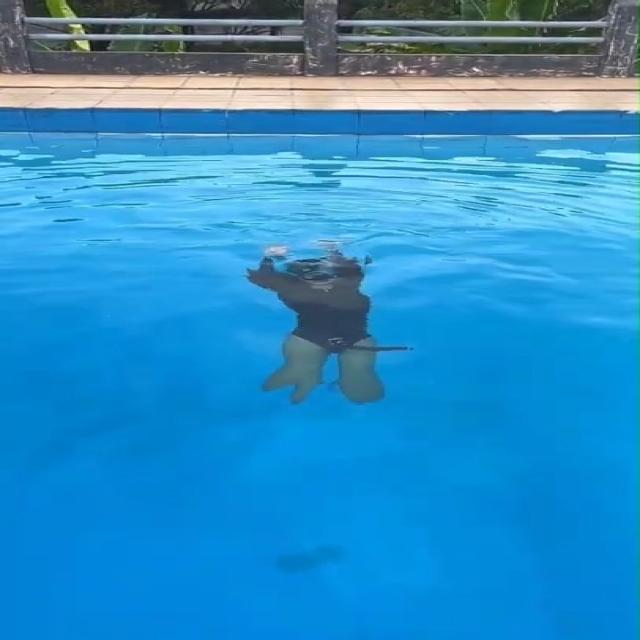Drowning: (249, 242, 416, 412)
